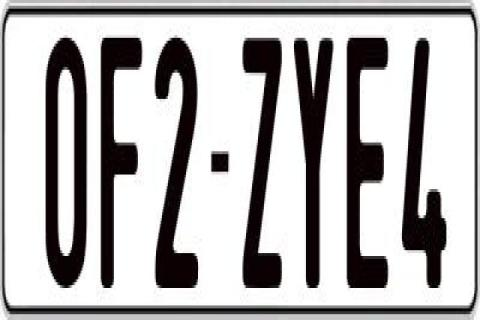0: (402, 38, 452, 302), (152, 35, 202, 288), (44, 29, 85, 297)
E: (347, 35, 393, 288)
F: (98, 32, 142, 288)
Y: (294, 32, 338, 296)
Z: (242, 29, 282, 291)
